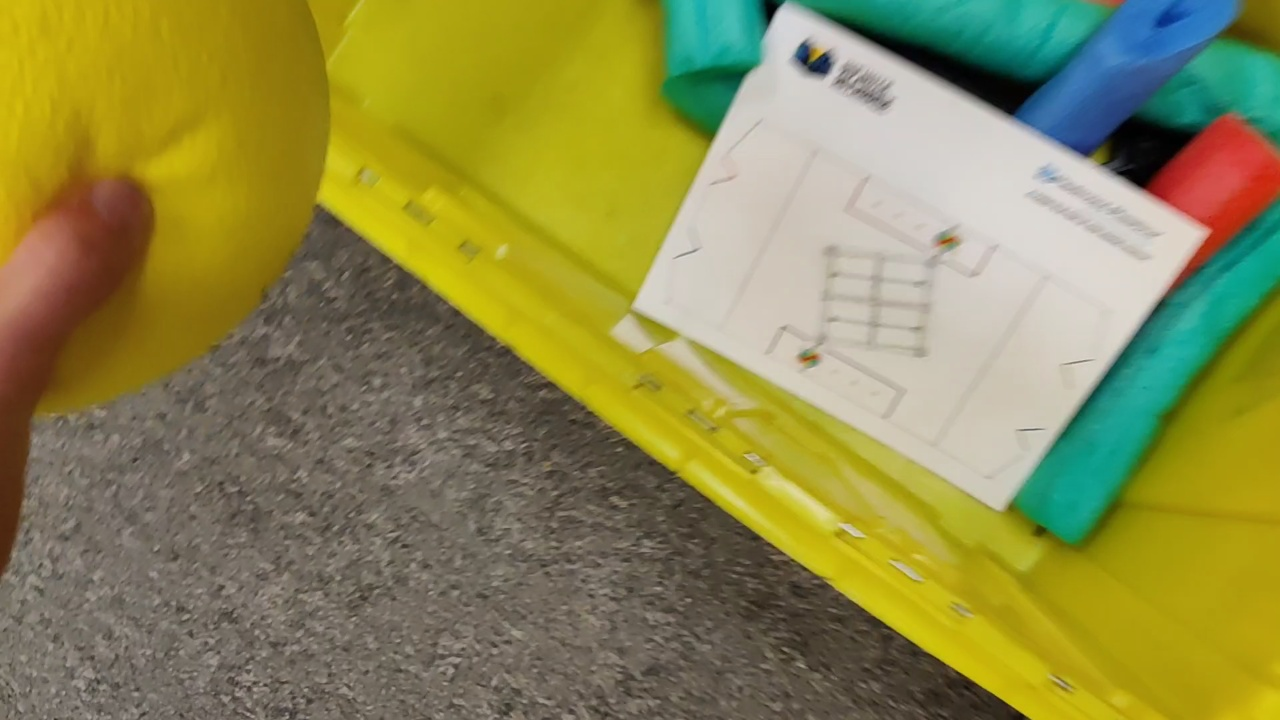Ball: (1, 1, 331, 424)
